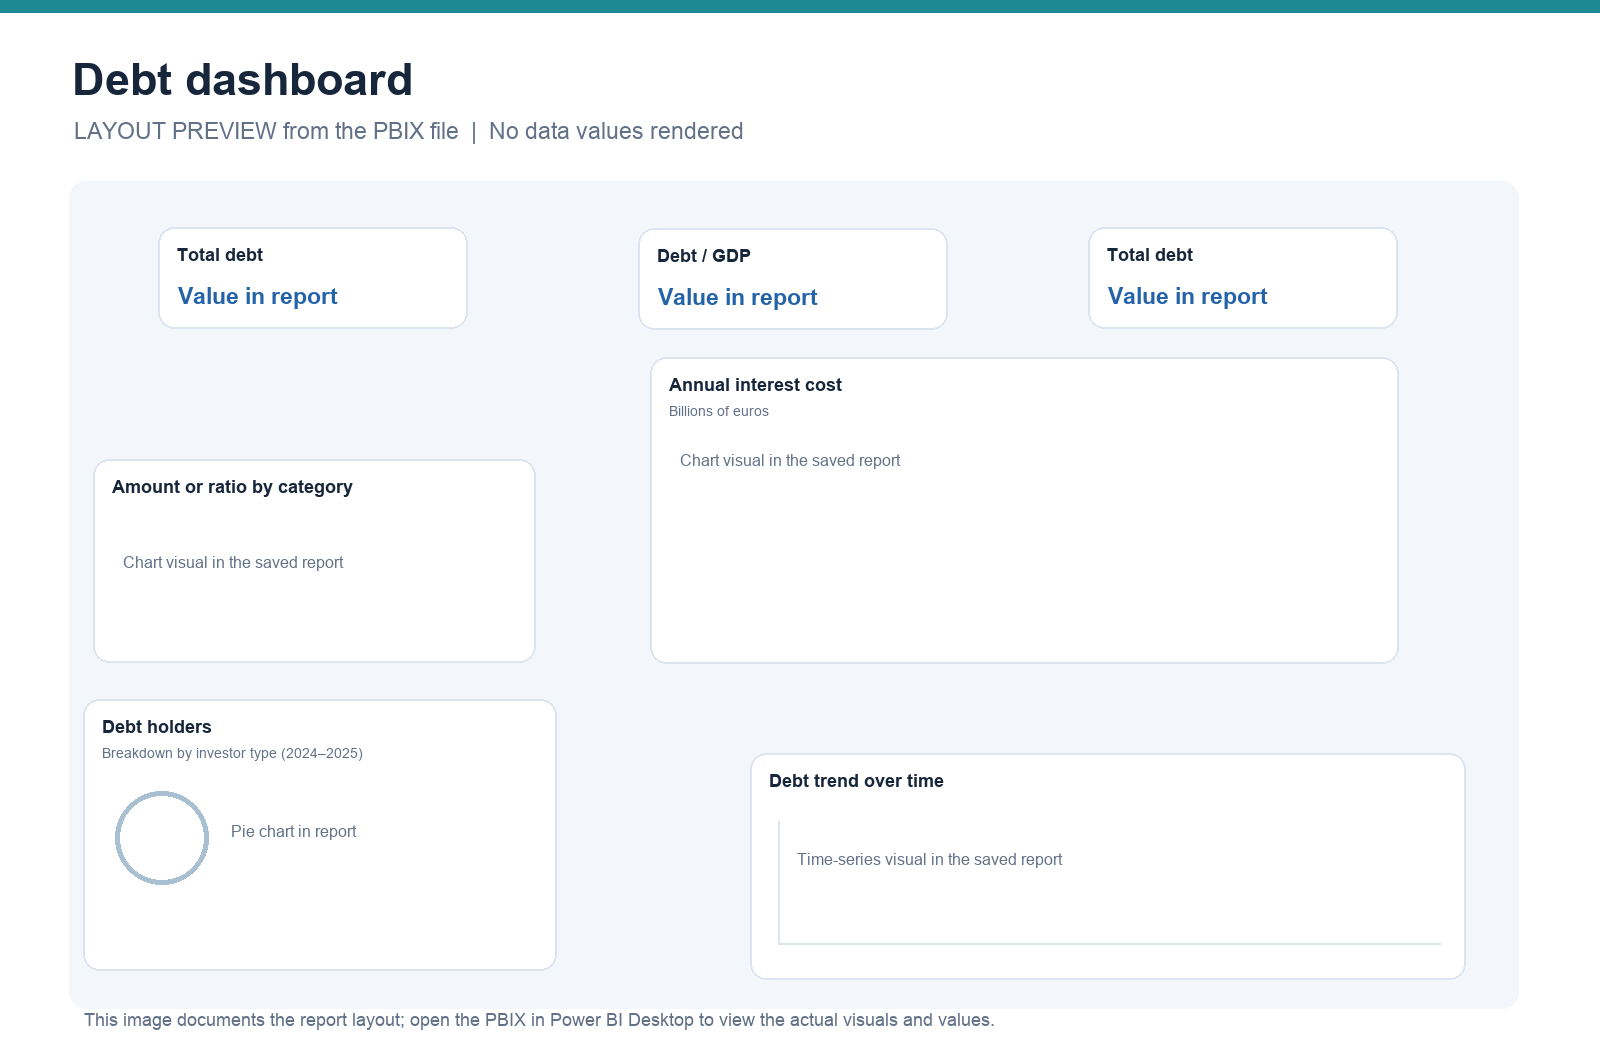

This screenshot's page, from the dashboard's own definition file:
{"tool":"powerbi","page":{"name":"Page 1","canvas":[1280,720],"ordinal":0},"visuals":[{"type":"card","fields":{"Values":["Tableau2_3.Dette Totale (Mds)"]},"box":[68.4,29,279.3,91.5],"z":0},{"type":"lineChart","fields":{"Category":["Tableau2_3.Date réelle.Variation.Hiérarchie de dates.Année","Tableau2_3.Date réelle.Variation.Hiérarchie de dates.Trimestre","Tableau2_3.Date réelle.Variation.Hiérarchie de dates.Mois","Tableau2_3.Date réelle.Variation.Hiérarchie de dates.Jour"],"Y":["Tableau2_3.Dette Totale"]},"box":[601.4,502.9,644.3,203.9],"z":1000},{"type":"barChart","fields":{"Category":["Tableau2_3.Catégorie"],"Y":["Sum(Tableau2_3.Montant/Ratio)"]},"box":[9.3,238.7,398.6,183.1],"z":2000},{"type":"pieChart","title":"Debt Holders","fields":{"Category":["chart.Category"],"Y":["Sum(chart.segment)"]},"box":[0,454.2,426.4,244.5],"z":3000},{"type":"card","fields":{"Values":["PIB.% Dette / PIB"]},"box":[500.6,30.1,279.3,91.5],"z":4000},{"type":"card","fields":{"Values":["Tableau2_3.Dette Totale (Mds)"]},"box":[906.1,29,279.3,91.5],"z":5000},{"type":"actionButton","box":[0,0,100,40],"z":6000},{"type":"columnChart","fields":{"Category":["interest table.Année"],"Y":["Sum(interest table.Charge Dette (Mds €))"]},"box":[511,146,674.4,275.8],"z":8000}]}

Visuals, with their boxes on the page's 1280x720 design canvas (x1, y1, x2, y2). These are canvas units, not pixel positions in the 1600x1050 screenshot, which may show the page scaled, cropped or inside an application window:
card - Tableau2_3.Dette Totale (Mds): {"left": 68, "top": 29, "right": 348, "bottom": 120}
lineChart - Tableau2_3.Date réelle.Variation.Hiérarchie de dates.Année x Tableau2_3.Date réelle.Variation.Hiérarchie de dates.Trimestre: {"left": 601, "top": 503, "right": 1246, "bottom": 707}
barChart - Tableau2_3.Catégorie x Sum(Tableau2_3.Montant/Ratio): {"left": 9, "top": 239, "right": 408, "bottom": 422}
"Debt Holders" pieChart: {"left": 0, "top": 454, "right": 426, "bottom": 699}
card - PIB.% Dette / PIB: {"left": 501, "top": 30, "right": 780, "bottom": 122}
card - Tableau2_3.Dette Totale (Mds): {"left": 906, "top": 29, "right": 1185, "bottom": 120}
actionButton: {"left": 0, "top": 0, "right": 100, "bottom": 40}
columnChart - interest table.Année x Sum(interest table.Charge Dette (Mds €)): {"left": 511, "top": 146, "right": 1185, "bottom": 422}
